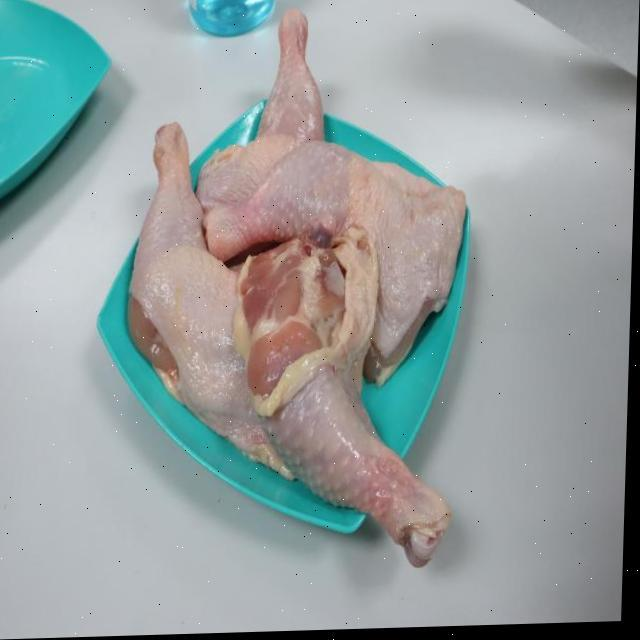quater: (226, 238, 473, 566), (202, 148, 477, 344), (129, 112, 275, 467), (225, 3, 353, 245)
